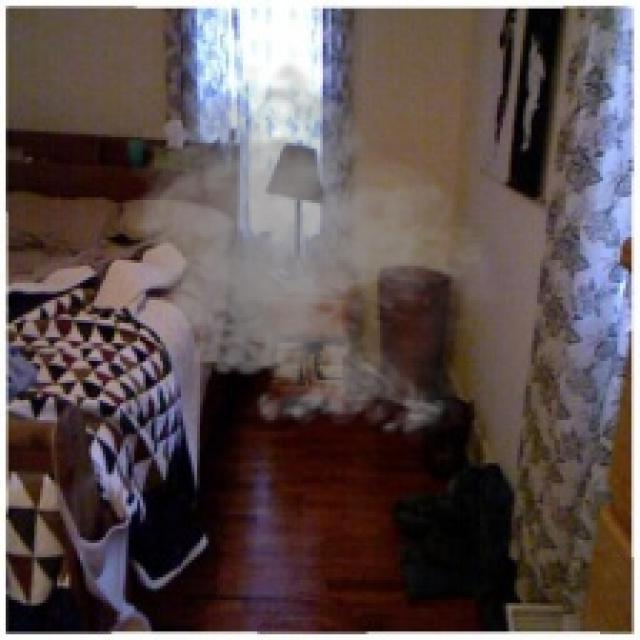Smoke: (111, 60, 512, 446)
